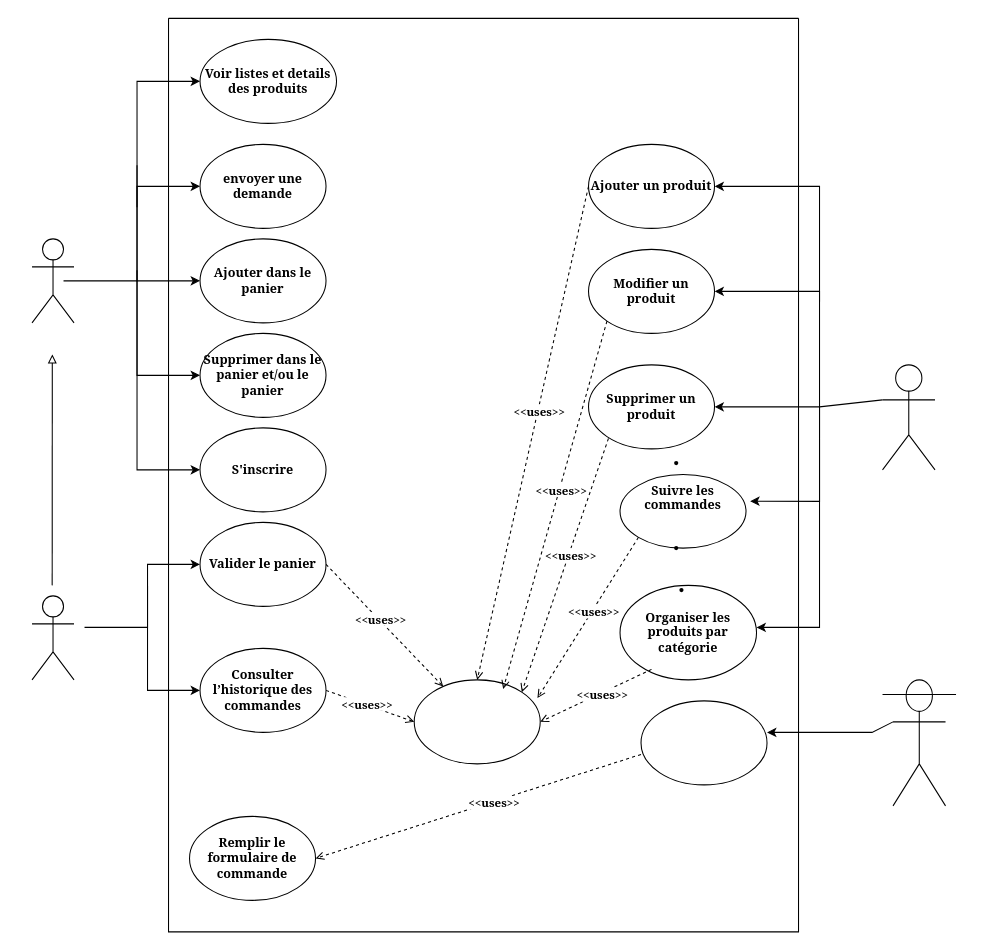
This 981x950 diagram has some shape labels left out. Each missing label, with the box of its shape:
Adm. du contenu: (881, 364, 935, 470)
Se connecter: (413, 679, 540, 764)
Utilisateur: (31, 595, 74, 680)
Valider la commande: (640, 700, 767, 785)
Visiteur: (31, 238, 74, 323)
